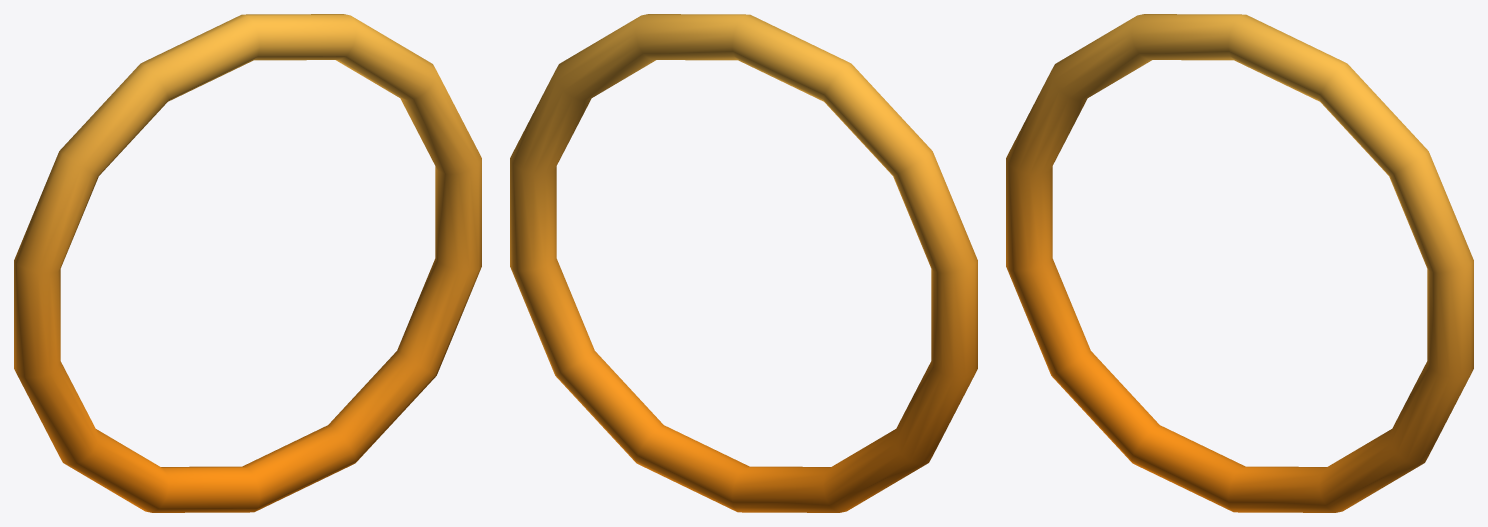
Rendered from Ring_3.fbx.
The picture shows the model from 3 angles, left to right: view 1: azimuth 30°, elevation 25°; view 2: azimuth 150°, elevation 25°; view 3: azimuth 330°, elevation 25°; orthographic projection.
Visible parts, largest first — view 1: Ring_3; view 2: Ring_3; view 3: Ring_3.
Part boxes in pixels (<box>): Ring_3: <box>14,14,481,512</box>; Ring_3: <box>510,14,977,512</box>; Ring_3: <box>1006,14,1473,512</box>.
Bounding box in the file's own units: 0.2286 × 0.2345 × 0.0204.
